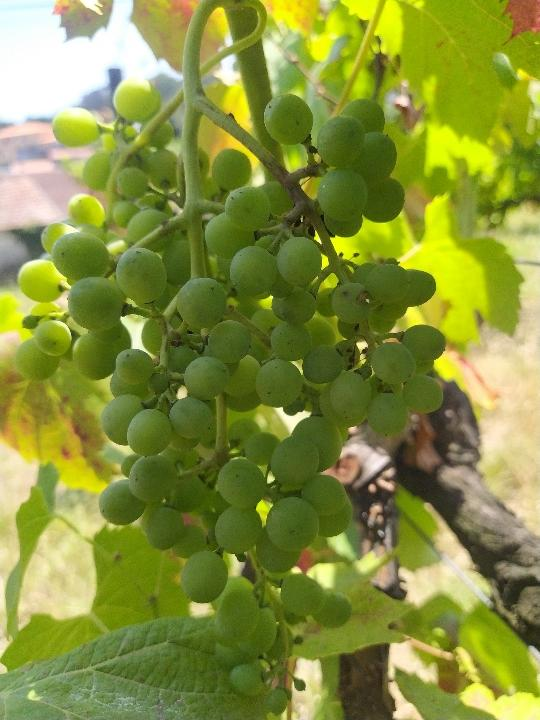grape: (17, 76, 447, 719)
